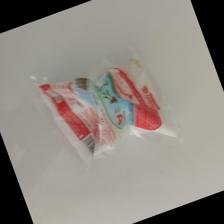Ajinomoto: (29, 56, 183, 170)
